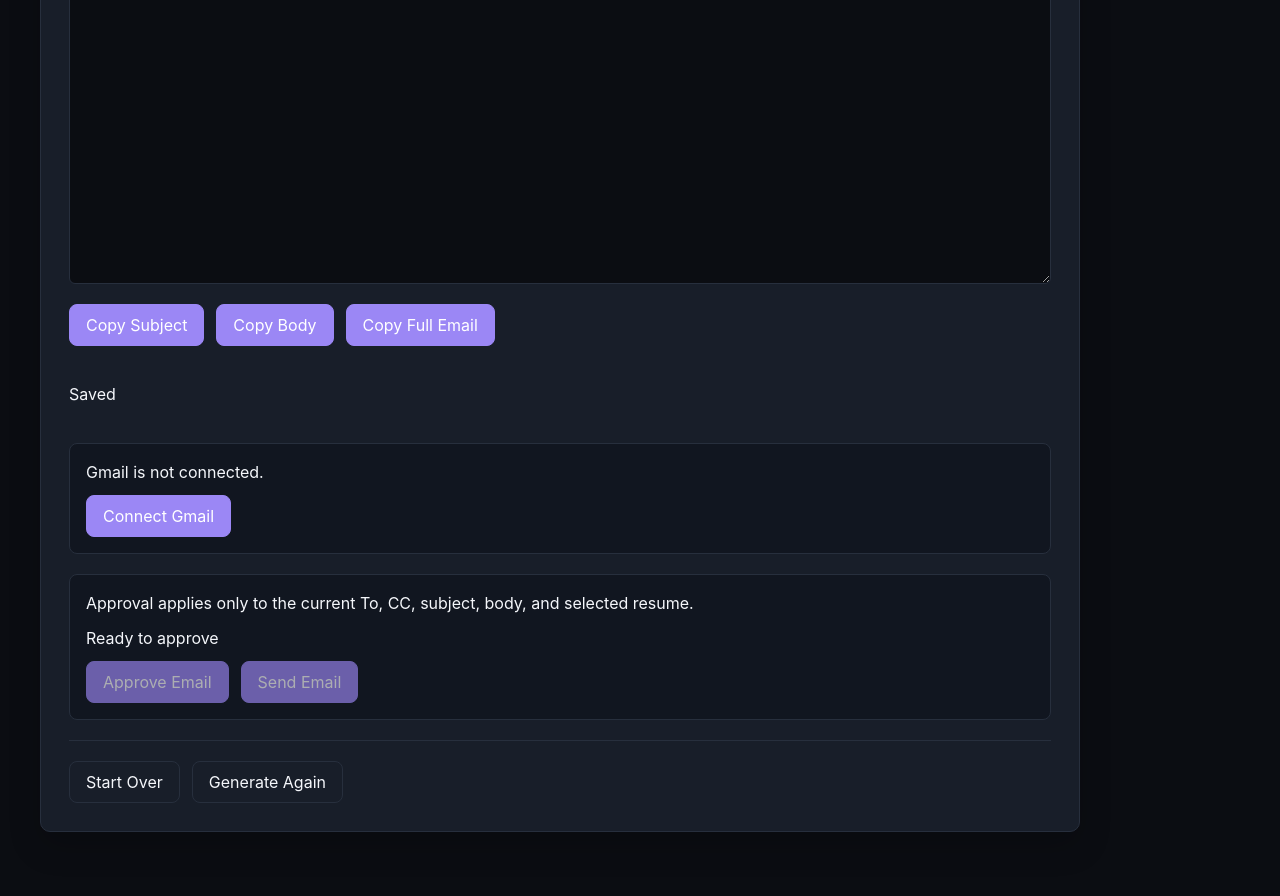
Test: OutreachPage › start over clears the restored draft without restoring it again
(page scrolled)
Click the button "Start Over" at (124, 782), box x1=69 y1=760 x2=180 y2=802
(page scrolled)
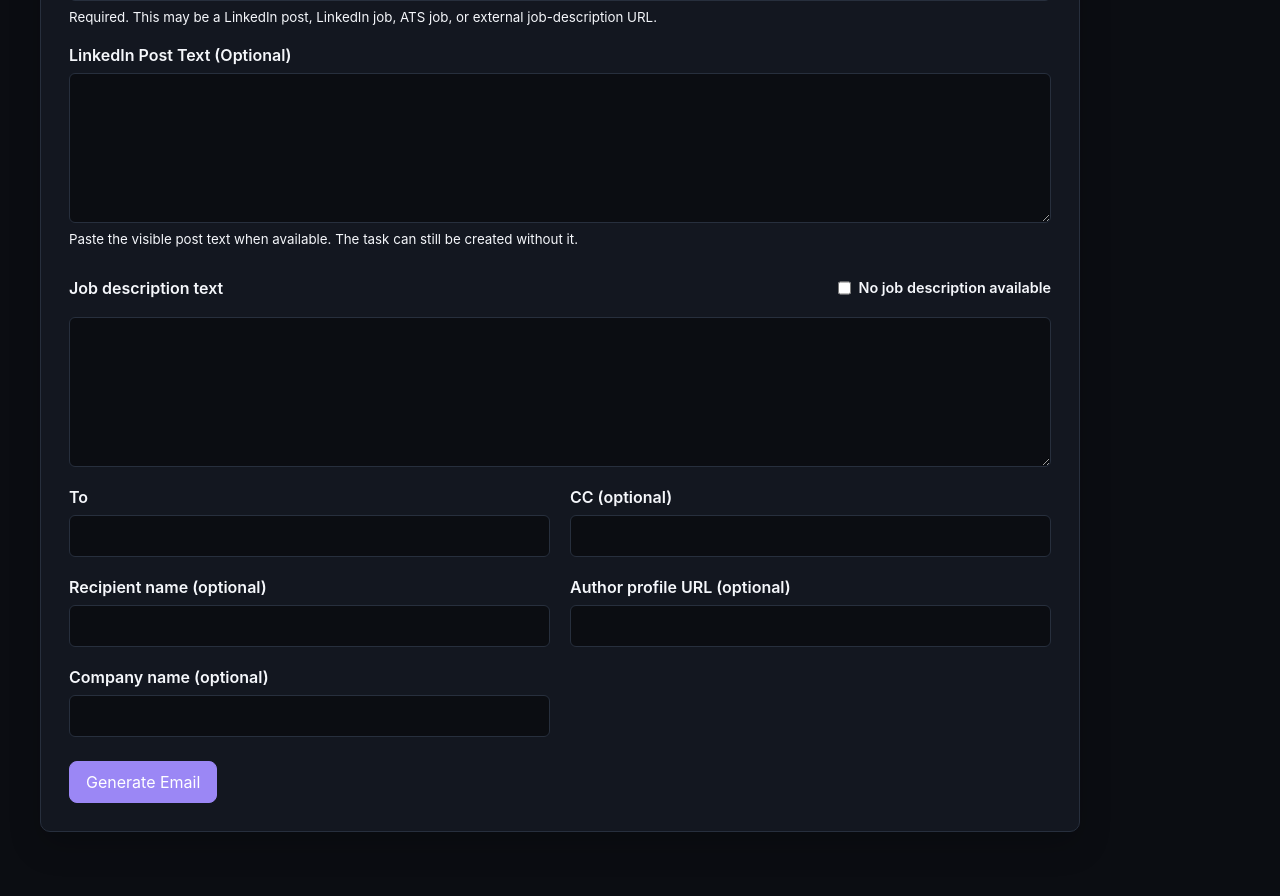
expect the text "Saved" is gone: met
